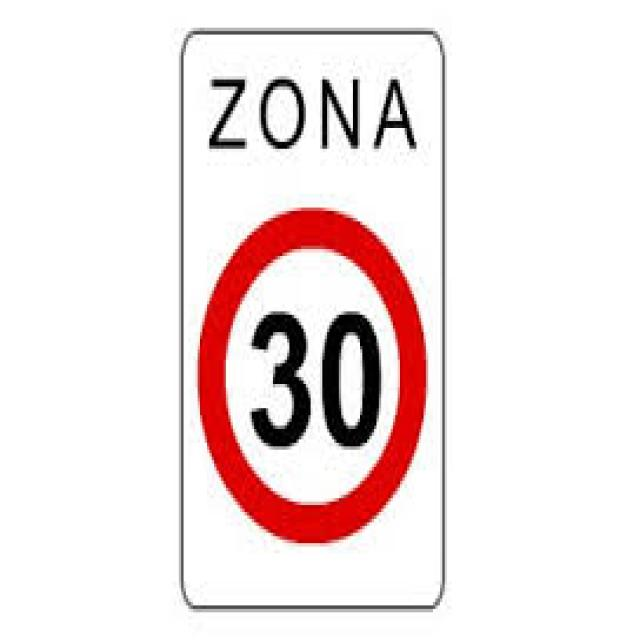Speed limit 30: (194, 202, 432, 548)
